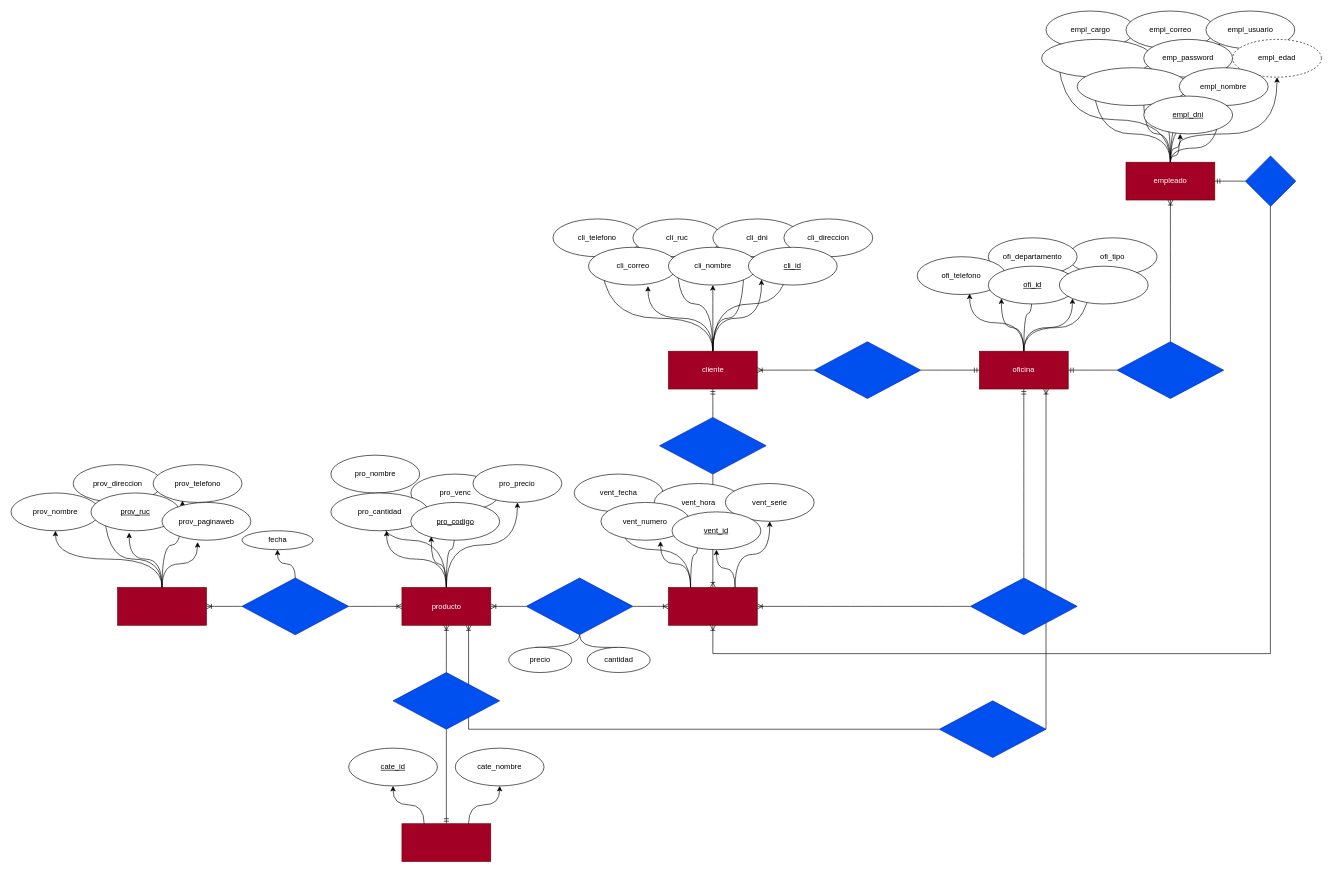
Image size: 1332x873. Some labels were removed from this diagram. Here are the shapes that lost their labels. From the top down, the box of each, then its label:
(1041, 39, 1153, 77): empl_ap_paterno
(1076, 67, 1188, 106): empl_ap_materno
(1245, 155, 1296, 206): realiza
(1059, 266, 1148, 304): ofi_ciudad
(814, 341, 921, 398): tiene
(1116, 341, 1224, 398): pertenece
(659, 417, 766, 474): puede
(117, 587, 206, 625): proveedor
(241, 577, 349, 635): provee
(526, 577, 633, 635): contiene
(668, 587, 757, 625): venta
(970, 577, 1077, 635): se genera
(392, 672, 500, 729): pertenecce
(939, 700, 1046, 758): guarda
(401, 823, 491, 862): categoria
